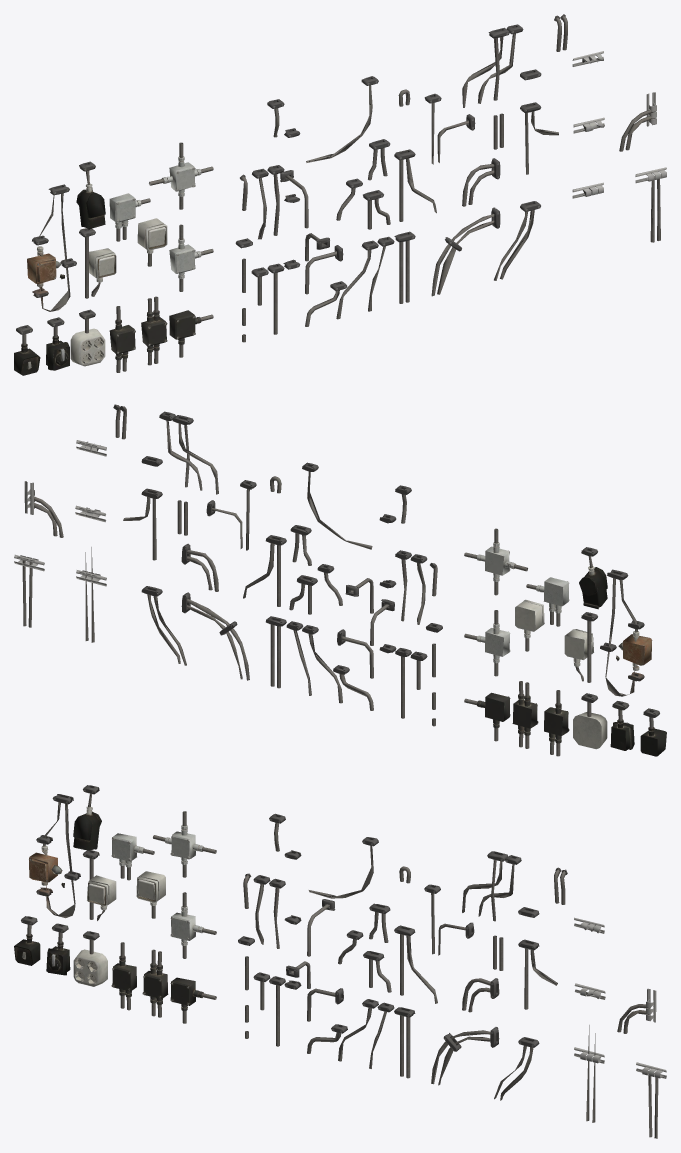
File: modular_electric_cables.glb
3 views of the same model, one above another, from view 1: azimuth 30°, elevation 25°; view 2: azimuth 150°, elevation 25°; view 3: azimuth 330°, elevation 25° (orthographic).
Visible parts, largest first — view 1: cable_switch, cable_plug_4x, cable_3way_junction, cable_lightswitch_double, cable_double_turn_long, cable_plug_covered_2, cable_box_4way, cable_box_double, cable_box_3way, cable_box_double_to_single, cable_box_double_to_single_2, cable_lightswitch (+13 smaller); view 2: cable_switch, cable_double_alt_long, cable_plug_4x, cable_lightswitch_double, cable_3way_junction, cable_plug_covered_2, cable_box_4way, cable_box_double, cable_double_turn_long, cable_box_3way, cable_box_double_to_single_2, cable_box_double_to_single (+13 smaller); view 3: cable_switch, cable_double_alt_long, cable_plug_4x, cable_lightswitch_double, cable_plug_covered_2, cable_3way_junction, cable_box_4way, cable_box_double, cable_double_turn_long, cable_box_3way, cable_box_double_to_single, cable_box_double_to_single_2 (+12 smaller).
Boxes of the visible parts, x1,y1,x2,y2 form: cable_switch: [27, 184, 76, 311]; cable_plug_4x: [70, 309, 105, 366]; cable_3way_junction: [462, 24, 523, 107]; cable_lightswitch_double: [79, 228, 116, 298]; cable_double_turn_long: [431, 207, 500, 296]; cable_plug_covered_2: [76, 161, 105, 228]; cable_box_4way: [149, 142, 213, 209]; cable_box_double: [141, 296, 167, 365]; cable_box_3way: [169, 224, 213, 291]; cable_box_double_to_single: [109, 306, 135, 372]; cable_box_double_to_single_2: [109, 193, 150, 241]; cable_lightswitch: [137, 218, 167, 266]; cable_switch: [600, 569, 652, 696]; cable_double_alt_long: [75, 440, 106, 642]; cable_plug_4x: [573, 693, 607, 749]; cable_lightswitch_double: [564, 612, 597, 682]; cable_3way_junction: [159, 411, 218, 494]; cable_plug_covered_2: [579, 547, 607, 609]; cable_box_4way: [464, 528, 527, 595]; cable_box_double: [512, 681, 538, 748]; cable_double_turn_long: [181, 592, 249, 680]; cable_box_3way: [464, 610, 510, 676]; cable_box_double_to_single_2: [526, 577, 569, 626]; cable_box_double_to_single: [544, 690, 569, 756]; cable_switch: [29, 794, 80, 918]; cable_double_alt_long: [574, 917, 605, 1122]; cable_plug_4x: [73, 931, 107, 986]; cable_lightswitch_double: [83, 850, 116, 920]; cable_plug_covered_2: [73, 785, 101, 850]; cable_3way_junction: [462, 851, 521, 921]; cable_box_4way: [153, 811, 216, 877]; cable_box_double: [142, 949, 168, 1017]; cable_double_turn_long: [431, 1027, 499, 1085]; cable_box_3way: [170, 892, 216, 958]; cable_box_double_to_single: [111, 942, 136, 1010]; cable_box_double_to_single_2: [111, 833, 154, 880].
Bounding box in the file's own units: 2.08 × 0.7573 × 0.2145.
2 materials, 2 textured.
